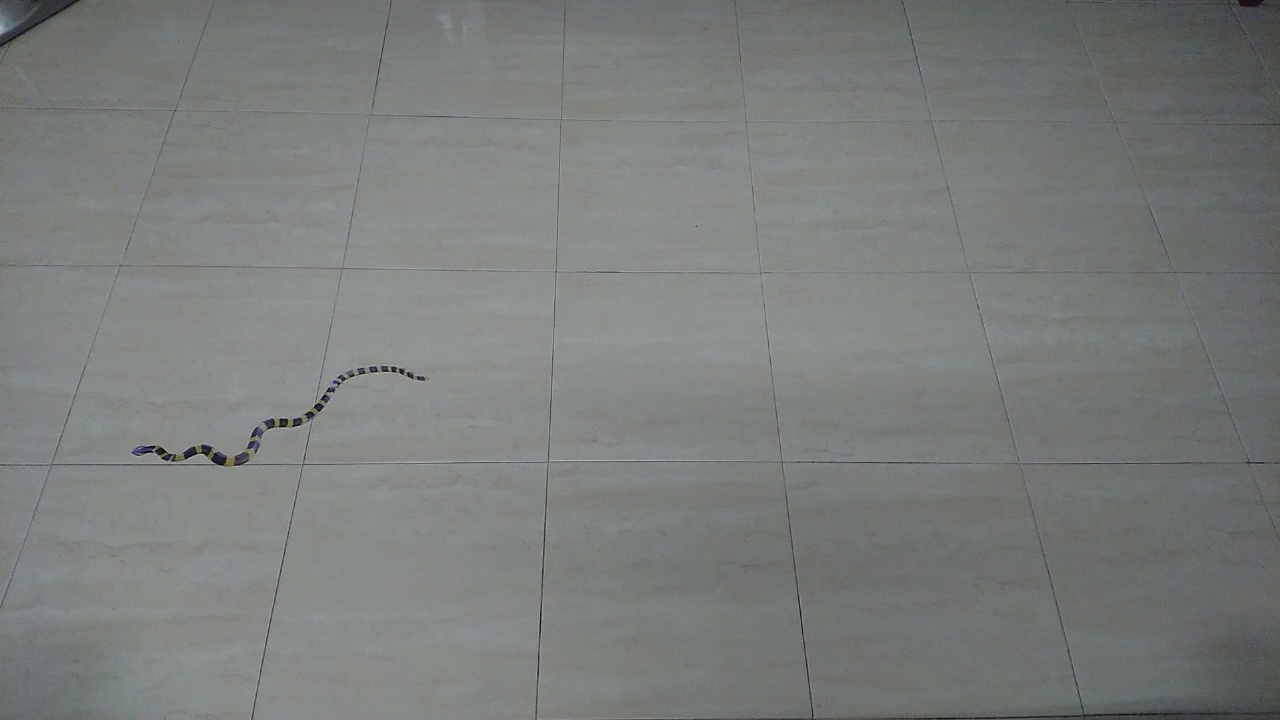snake: (118, 353, 443, 476)
